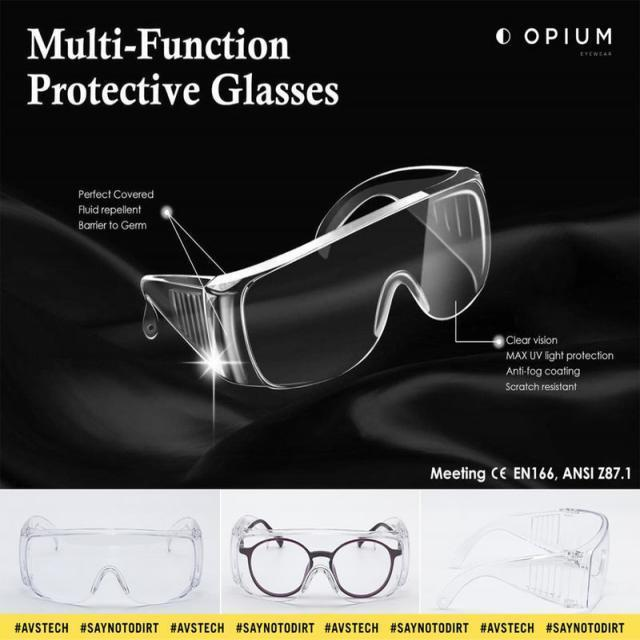Goggles: (129, 156, 493, 388)
